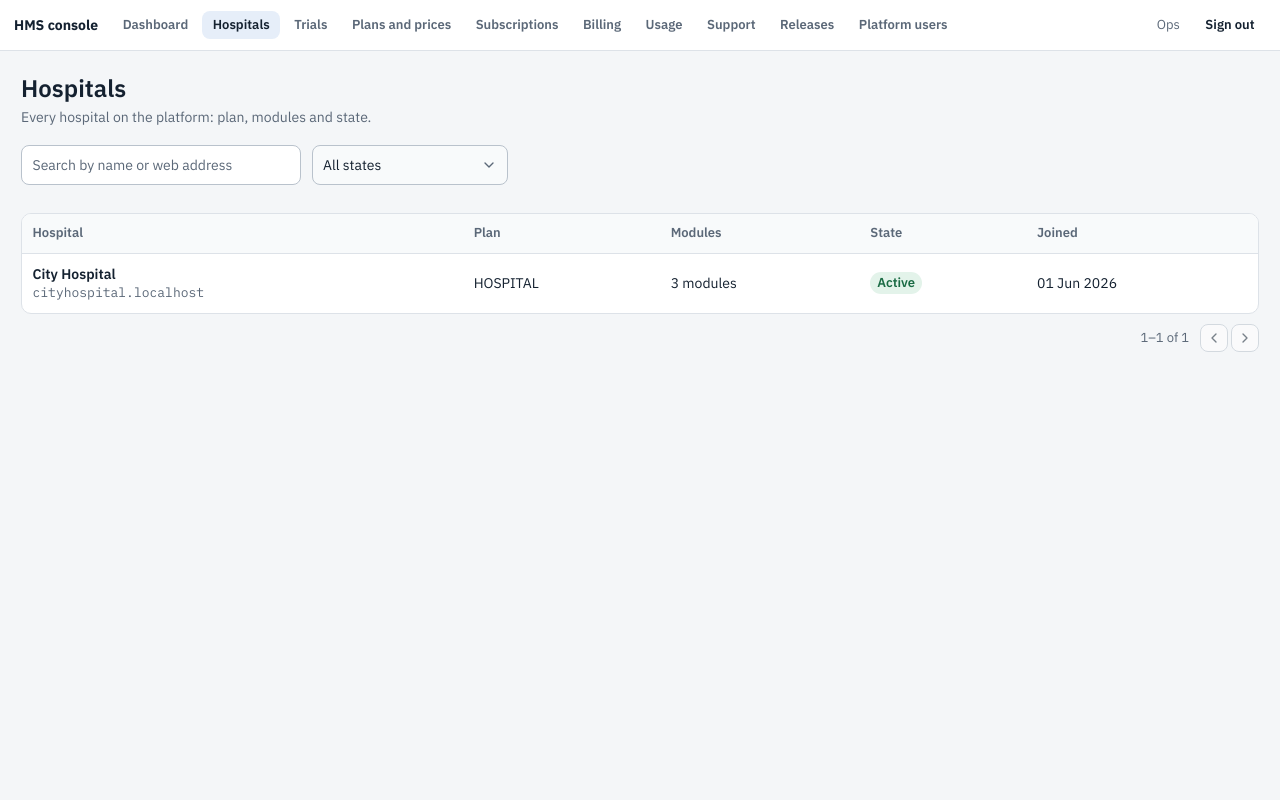
Test: Platform console › lists hospitals and opens one with usage, modules and invoices
The width and height of the screenshot is (1280, 800).
Click the text "City Hospital". click: (74, 274)
box: x1=32 y1=265 x2=116 y2=283
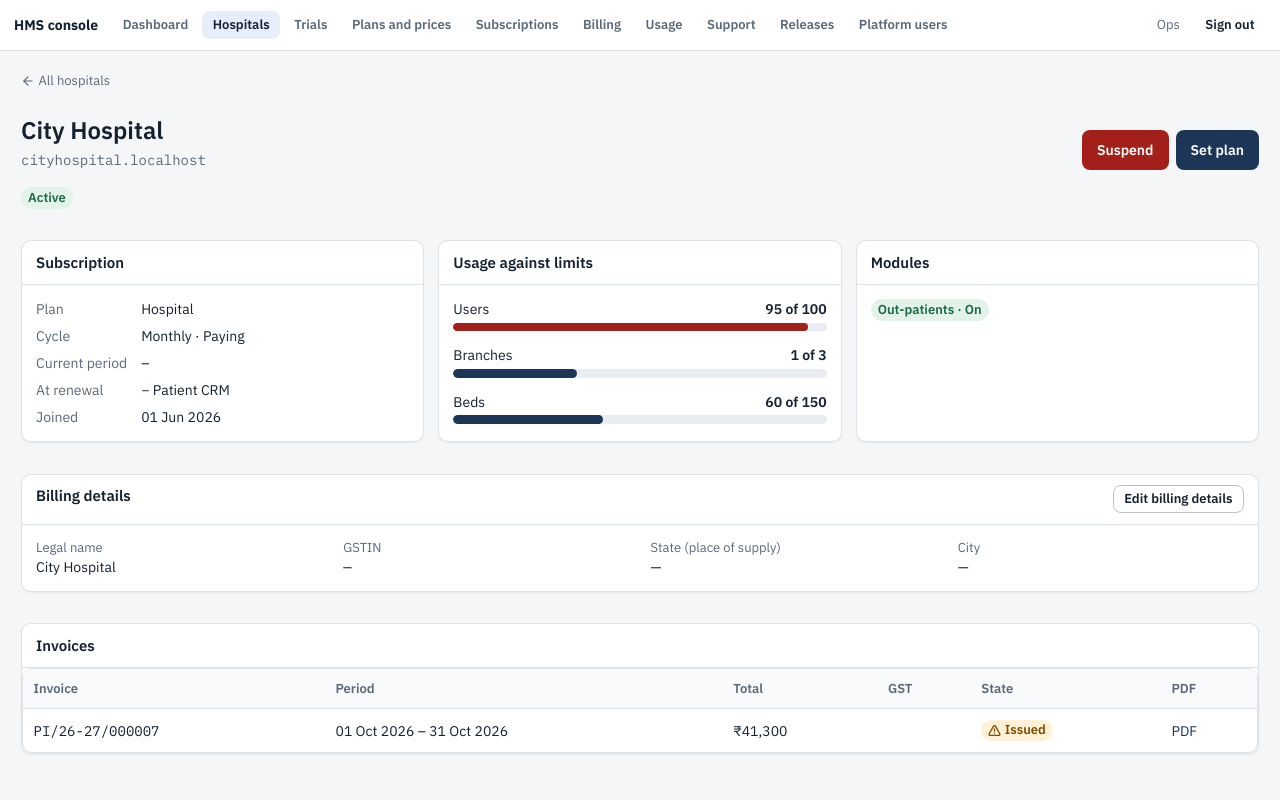
Expected: the heading "City Hospital" is shown, x1=21 y1=114 x2=163 y2=146
Expected: the text "Out-patients · On" is shown, x1=878 y1=301 x2=982 y2=319
Expected: the text "PI/26-27/000007" is shown, x1=34 y1=722 x2=160 y2=740
